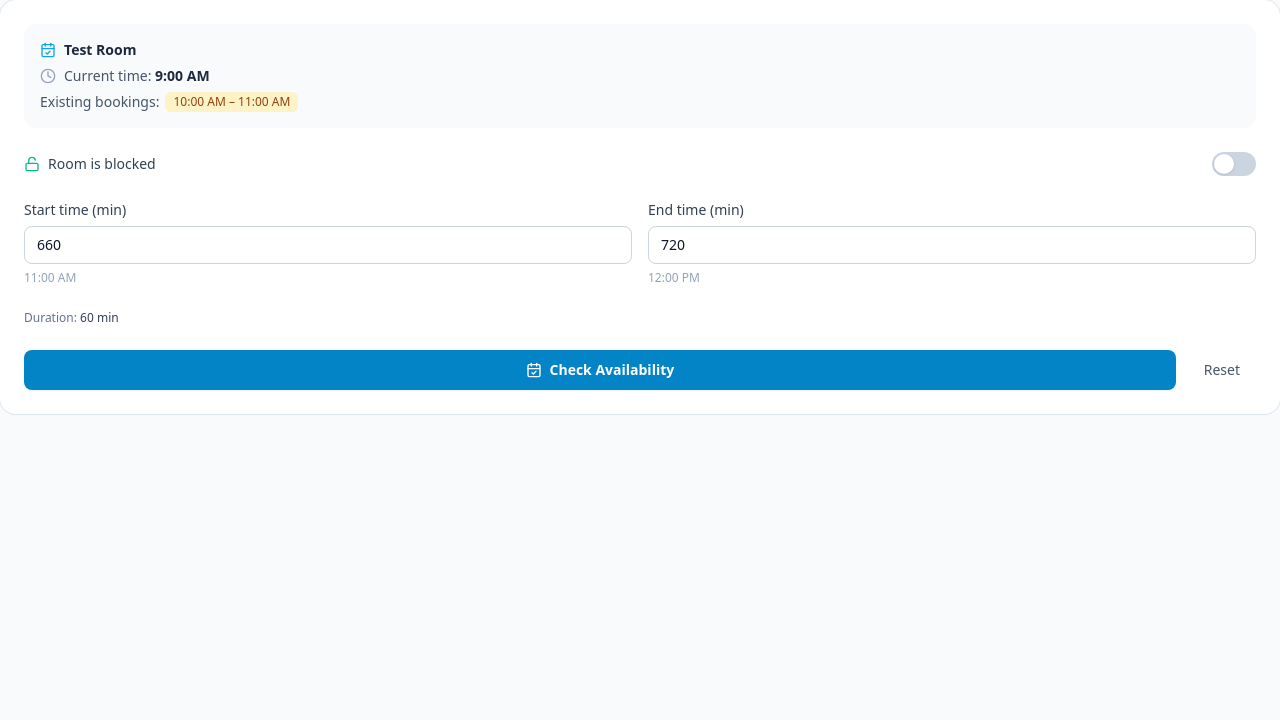
it: AvailabilityPanel › rejects a 121-minute duration (AC3)
Replace the text in the number field labelled "Start time (min)" with "661" at (328, 245), box [24, 226, 632, 264]
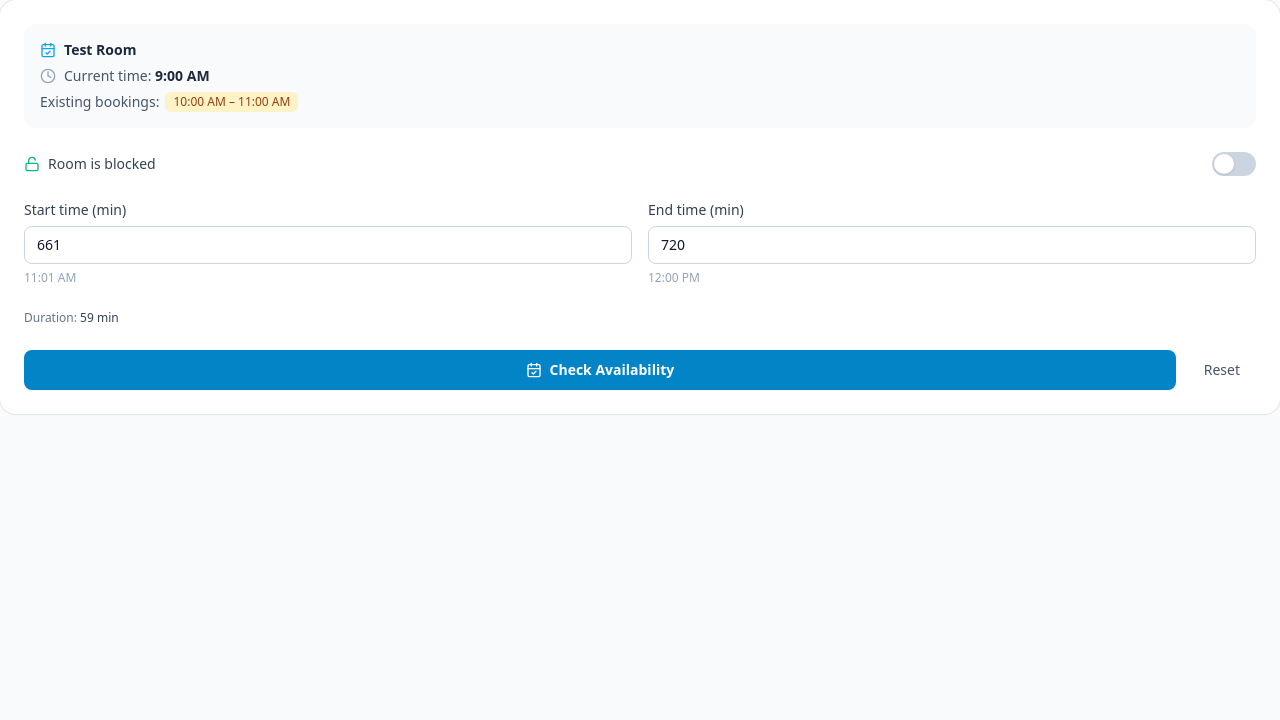
Replace the text in the number field labelled "End time (min)" with "782" at (952, 245), box [648, 226, 1256, 264]
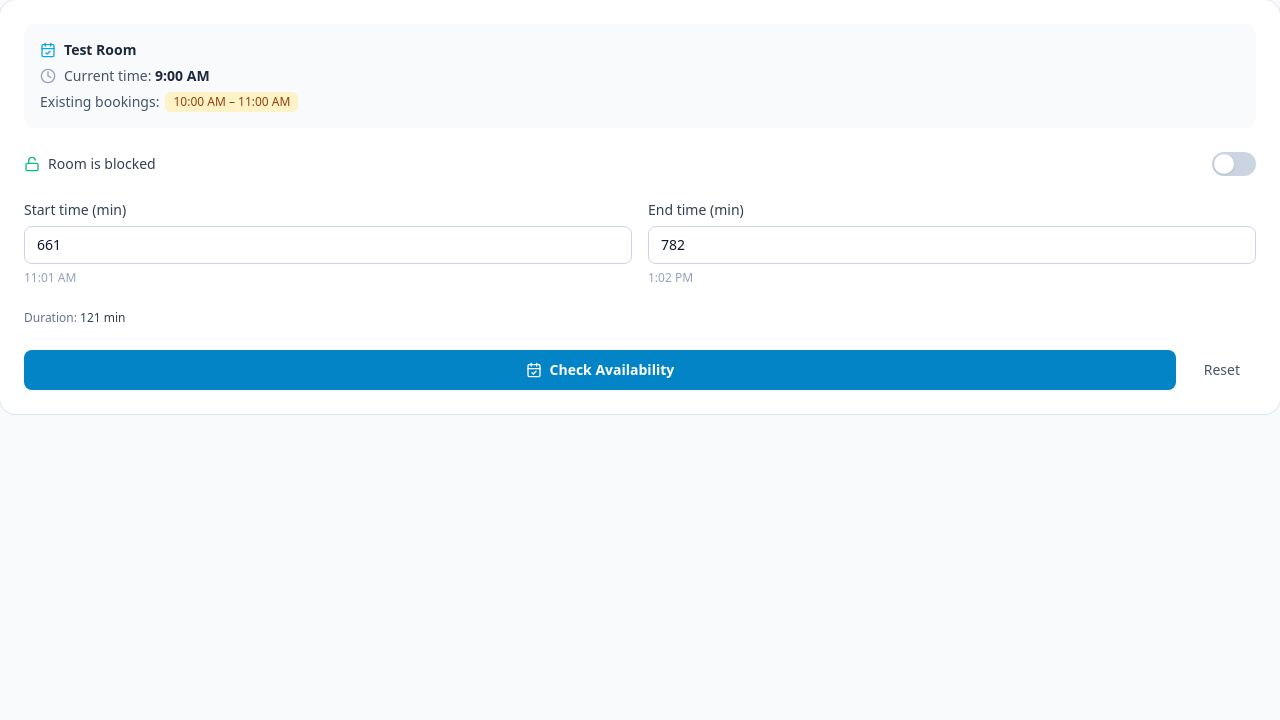
Click the button "Check Availability" at (600, 370), box [24, 350, 1176, 390]
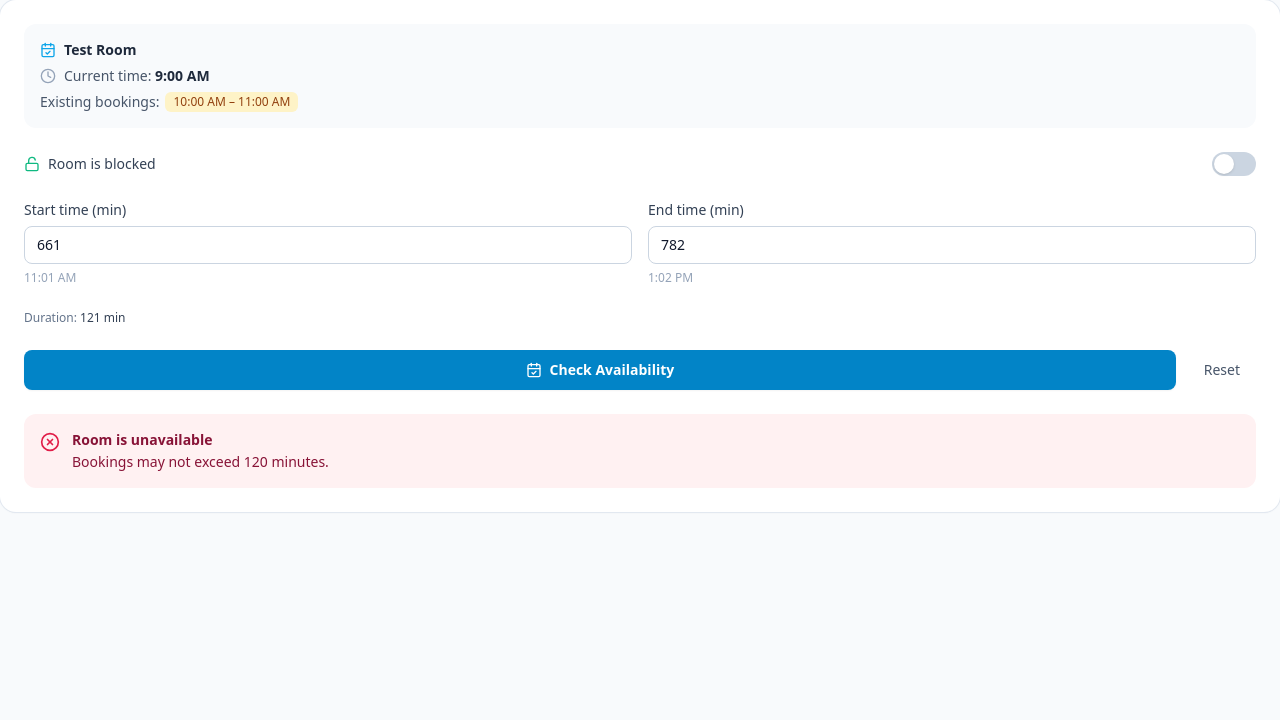
expect the text "Room is unavailable" is shown: met, box [72, 430, 212, 449]
expect the text "Bookings may not exceed 120 minutes." is shown: met, box [72, 452, 329, 472]
